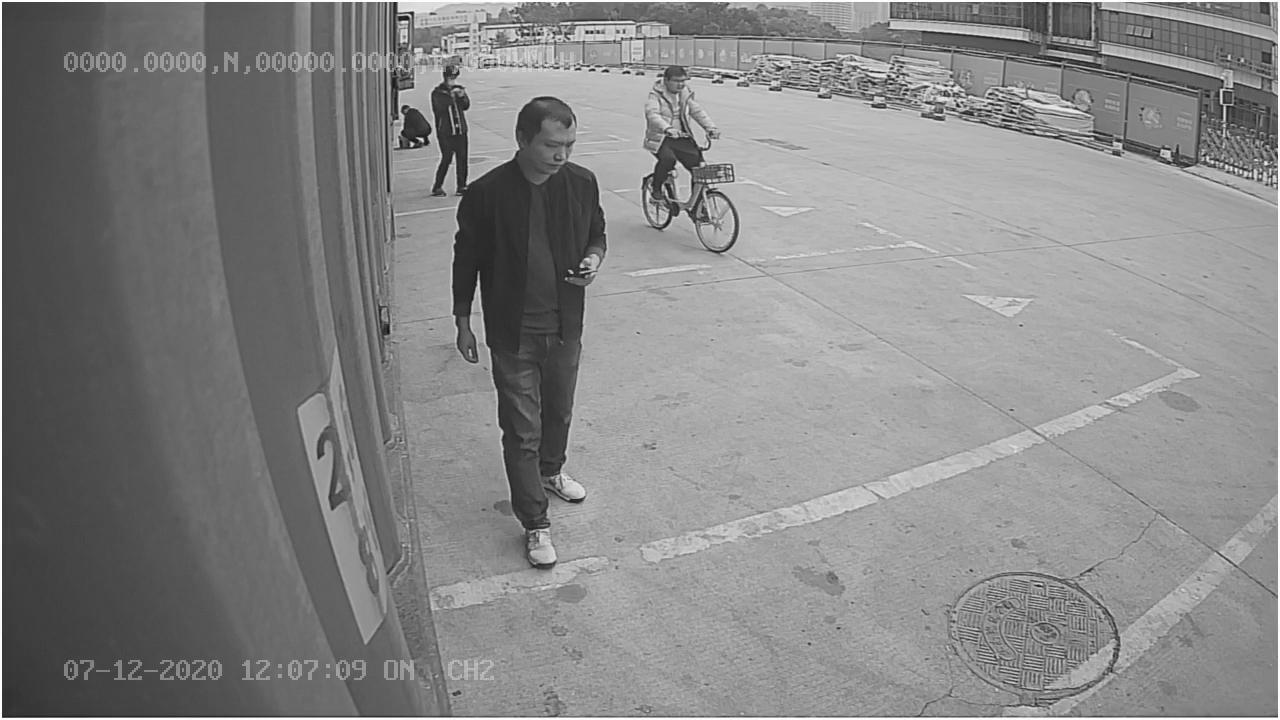person: (450, 97, 611, 572)
